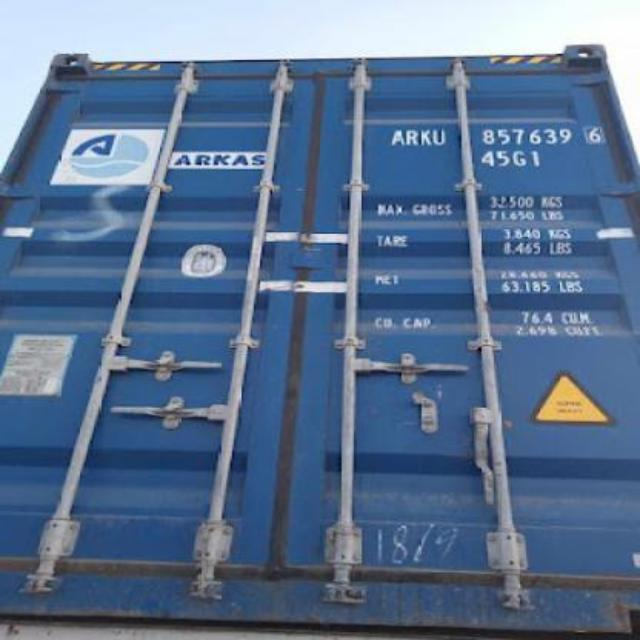3: (544, 125, 558, 146)
5: (494, 127, 512, 145)
6: (528, 125, 544, 145), (588, 126, 602, 144)
7: (512, 127, 528, 143)
8: (484, 129, 494, 145)
9: (560, 127, 572, 145)
A: (391, 129, 404, 145)
K: (418, 127, 432, 147)
R: (406, 129, 418, 145)
U: (432, 129, 446, 145)
